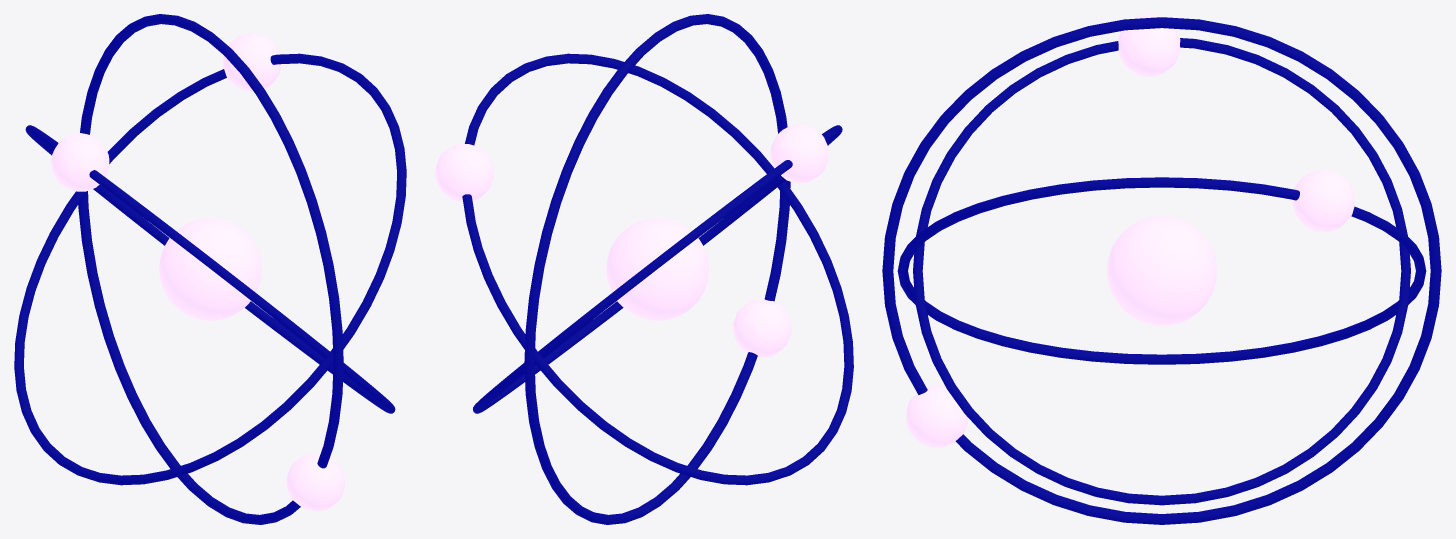
The model's file is white_blue.glb.
The picture shows the model from 3 angles, left to right: view 1: azimuth 30°, elevation 25°; view 2: azimuth 150°, elevation 25°; view 3: azimuth 270°, elevation 25°; orthographic projection. The views are drawn at different scales.
Visible parts, largest first — view 1: GN Instance (×4), Middle Point; view 2: GN Instance (×4), Middle Point; view 3: GN Instance (×4), Middle Point.
Boxes of the visible parts, x1,y1,x2,y2 form: GN Instance (×4): (14, 14, 406, 524); Middle Point: (159, 218, 261, 320); GN Instance (×4): (435, 14, 853, 524); Middle Point: (606, 218, 708, 320); GN Instance (×4): (882, 14, 1441, 524); Middle Point: (1107, 216, 1216, 325).
Size of the model in its own units: 7.02 by 10.14 by 10.14.
